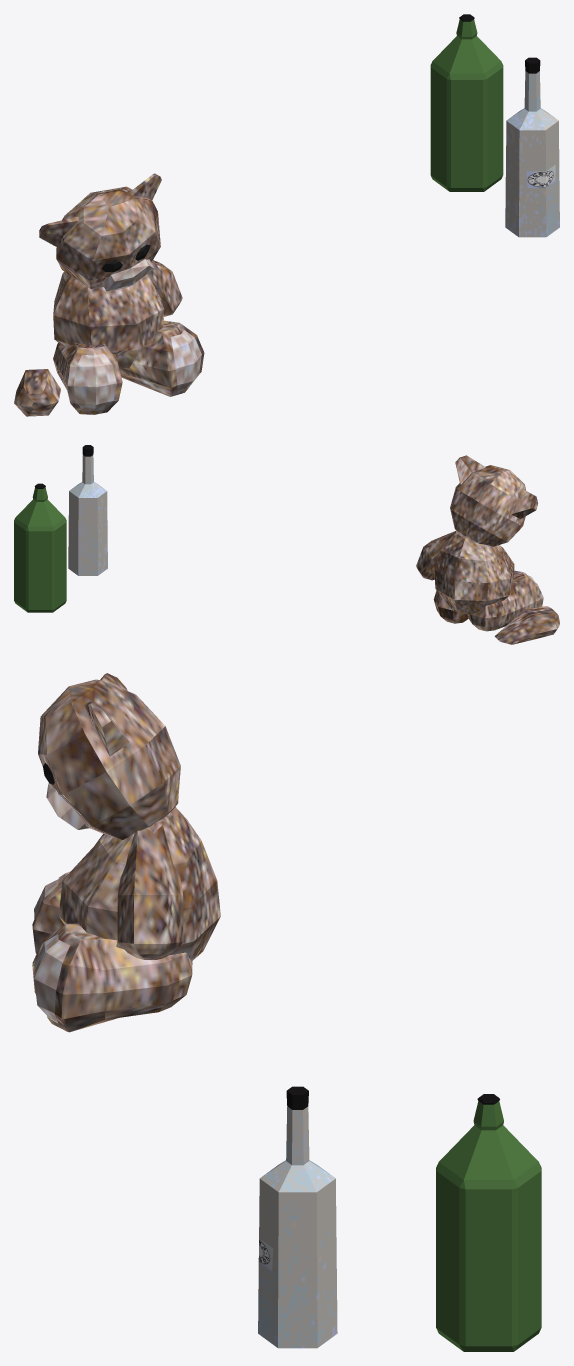
The model's file is AlcoBear.fbx.
3 views of the same model, one above another, from view 1: azimuth 30°, elevation 25°; view 2: azimuth 150°, elevation 25°; view 3: azimuth 270°, elevation 25° (orthographic). The views are drawn at different scales.
Parts seen in each view (by area): view 1: TeddyBear.001, Beer, Vodka; view 2: TeddyBear.001, Beer, Vodka; view 3: TeddyBear.001, Beer, Vodka.
Part boxes in pixels (<box>): TeddyBear.001: <box>14,173,204,416</box>; Beer: <box>430,14,503,191</box>; Vodka: <box>505,57,559,237</box>; TeddyBear.001: <box>416,455,559,644</box>; Beer: <box>14,483,66,612</box>; Vodka: <box>68,445,107,575</box>; TeddyBear.001: <box>32,673,220,1032</box>; Beer: <box>436,1094,541,1351</box>; Vodka: <box>258,1086,337,1348</box>.
Bounding box in the file's own units: 179 × 60.56 × 89.16.
